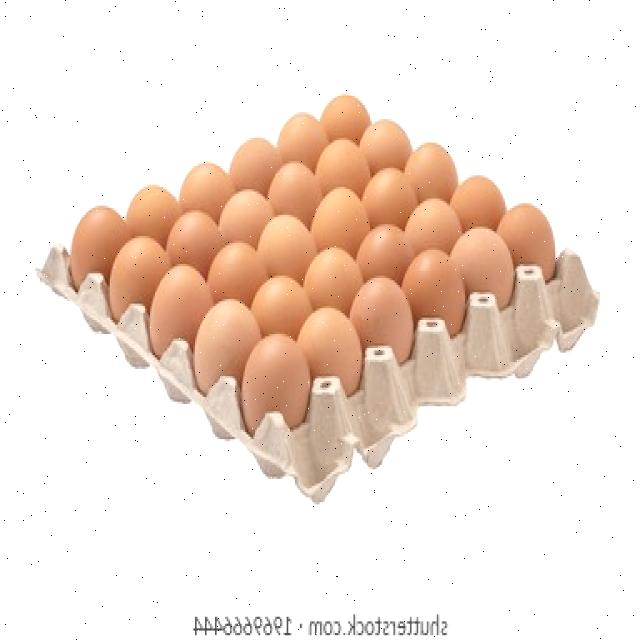Brown Egg: (241, 329, 308, 433), (350, 269, 418, 361), (193, 298, 258, 392), (401, 243, 466, 334), (299, 302, 362, 393), (148, 260, 209, 351), (450, 221, 512, 306), (71, 198, 126, 290), (496, 198, 556, 280), (109, 235, 164, 320), (304, 246, 366, 312), (207, 240, 268, 304), (309, 184, 366, 248), (257, 212, 313, 274), (355, 223, 414, 280), (253, 272, 307, 334), (449, 171, 506, 227), (356, 118, 416, 171), (406, 140, 458, 200), (128, 184, 181, 242), (166, 209, 218, 268), (216, 191, 271, 245), (360, 167, 413, 223), (405, 193, 460, 246), (315, 136, 370, 188), (268, 157, 321, 210), (276, 110, 328, 163), (230, 134, 275, 192), (180, 158, 229, 210), (318, 93, 374, 138)
